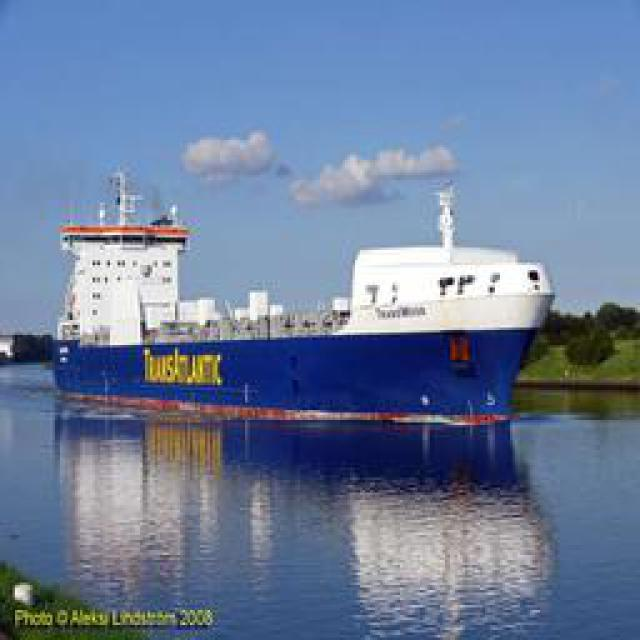Ship: (61, 168, 549, 446)
